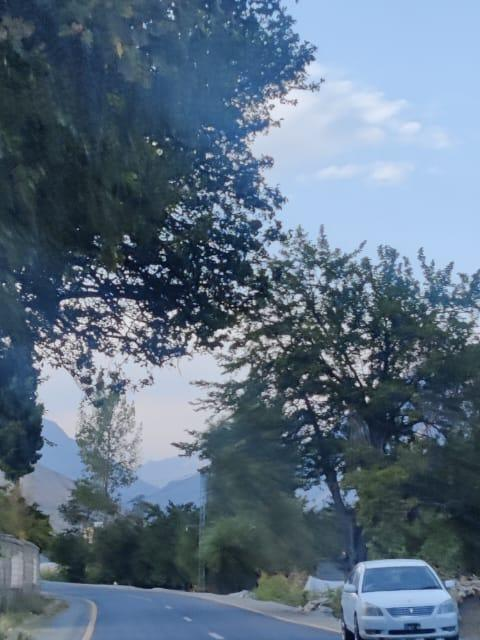left_turn: (34, 548, 228, 621)
